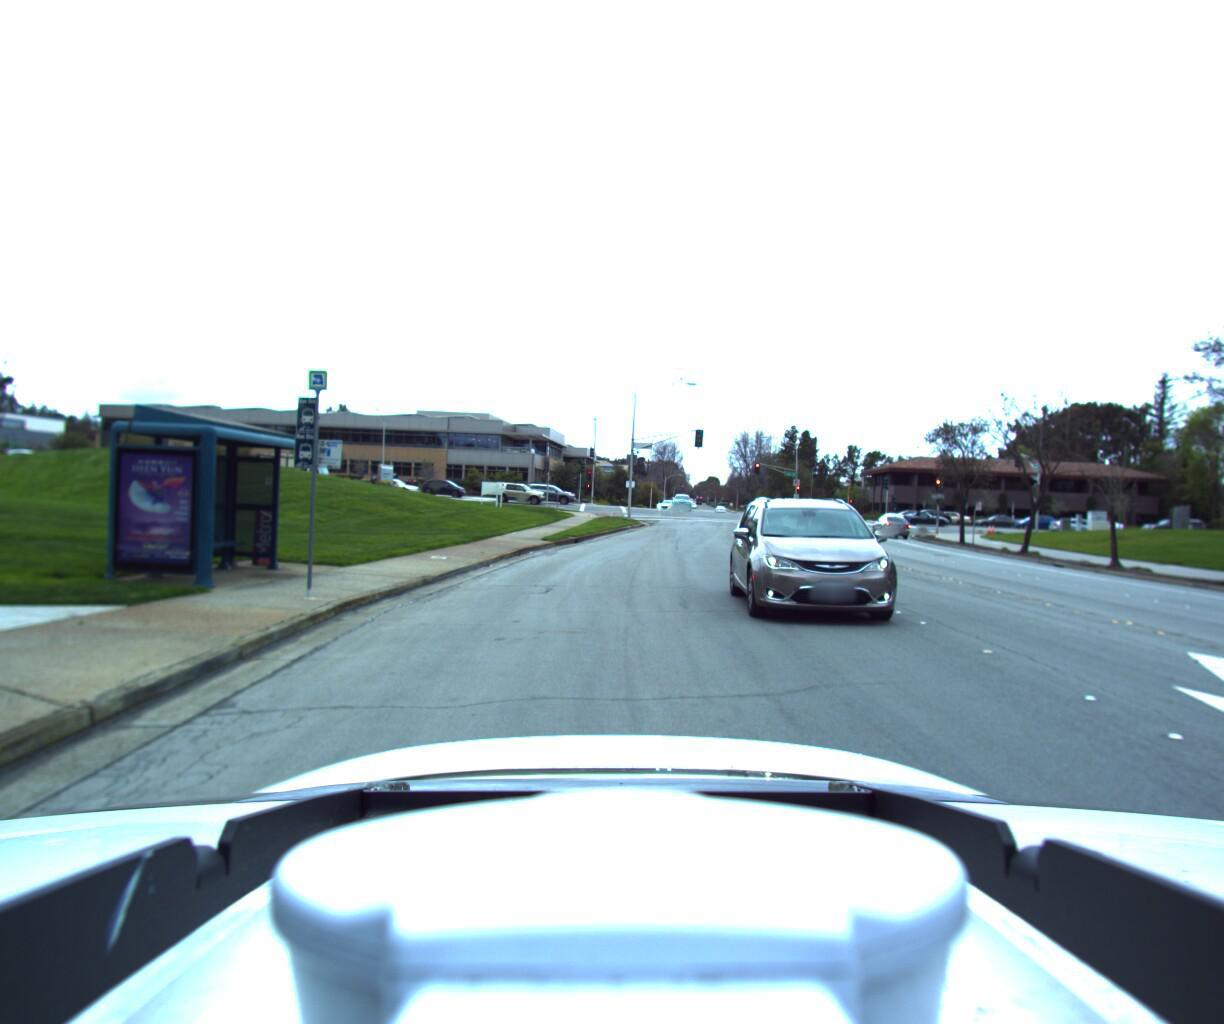car: (736, 494, 944, 650), (486, 479, 544, 504), (518, 481, 574, 504), (359, 477, 419, 496), (911, 507, 969, 527), (869, 513, 912, 538), (899, 505, 955, 524), (414, 478, 466, 497), (1008, 510, 1061, 528), (964, 510, 1015, 527), (672, 494, 694, 510)
